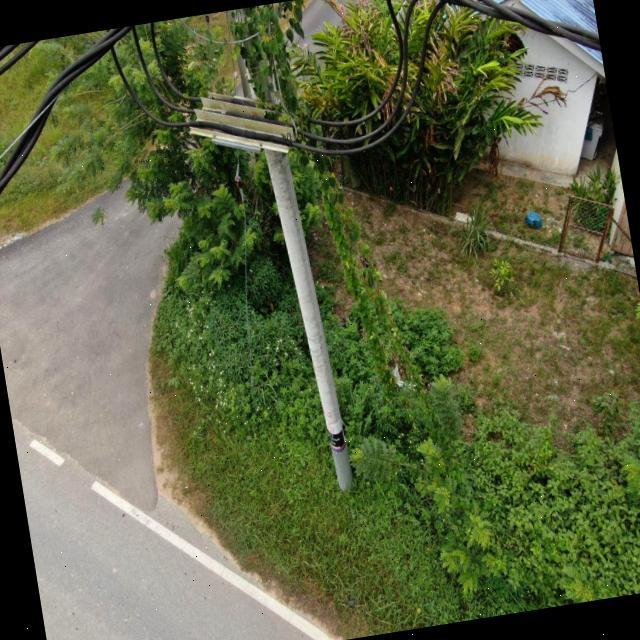critical vegetation: (230, 1, 465, 503)
